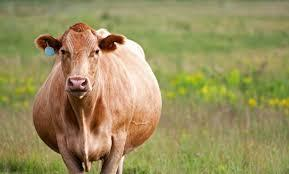cow: (31, 22, 162, 174)
